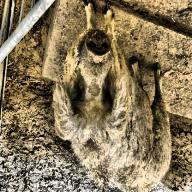boar: (34, 20, 192, 192)
